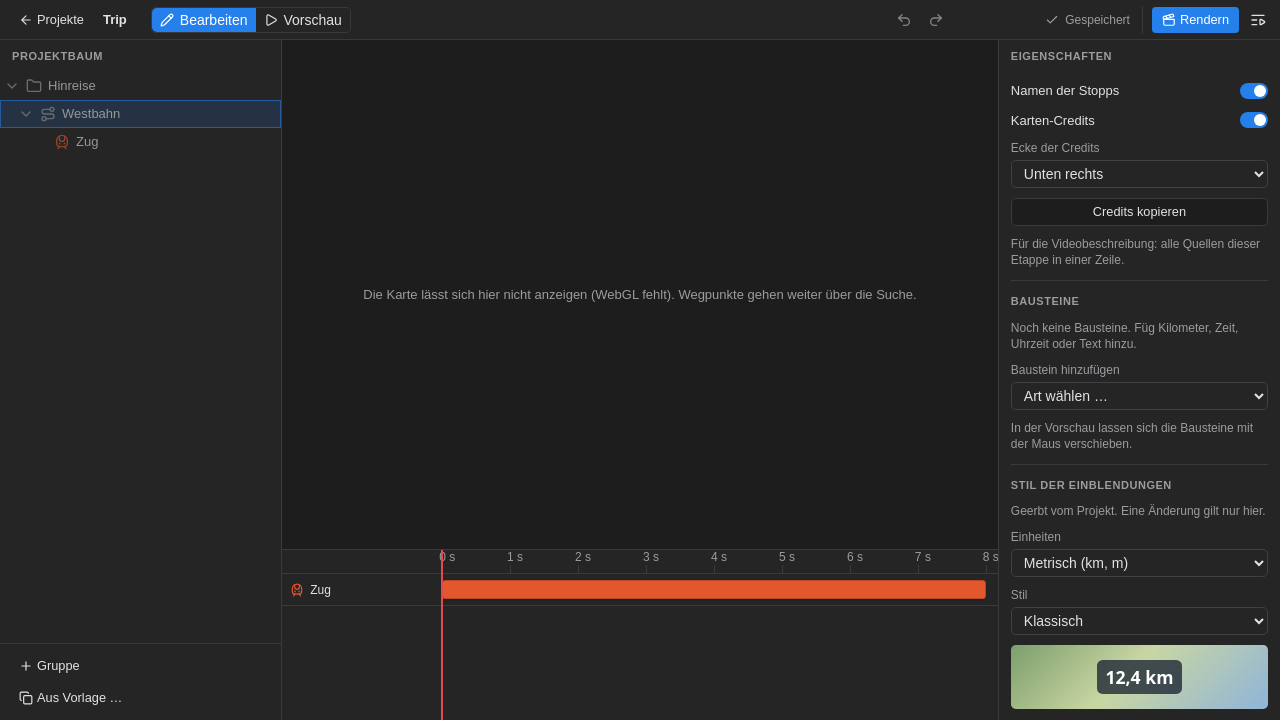
Test: Inspector › shows a height profile once the route has its heights
(page scrolled)
Expected: the heading "Trip" is shown, [103, 10, 127, 29]
Select "Höhenprofil" in the dropdown labelled "Baustein hinzufügen" at (1139, 396), box [1011, 382, 1268, 410]
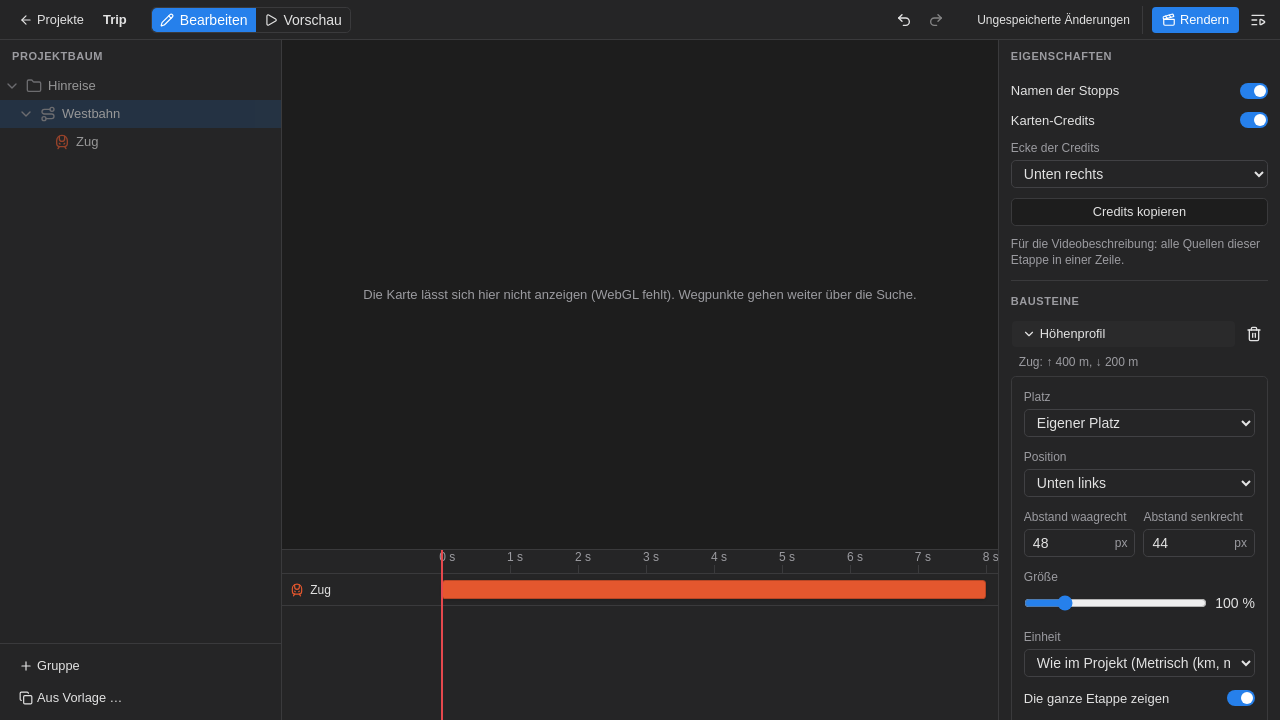
Result: the text "Zug: ↑ 400 m, ↓ 200 m" is shown at [1019, 354, 1138, 368]
